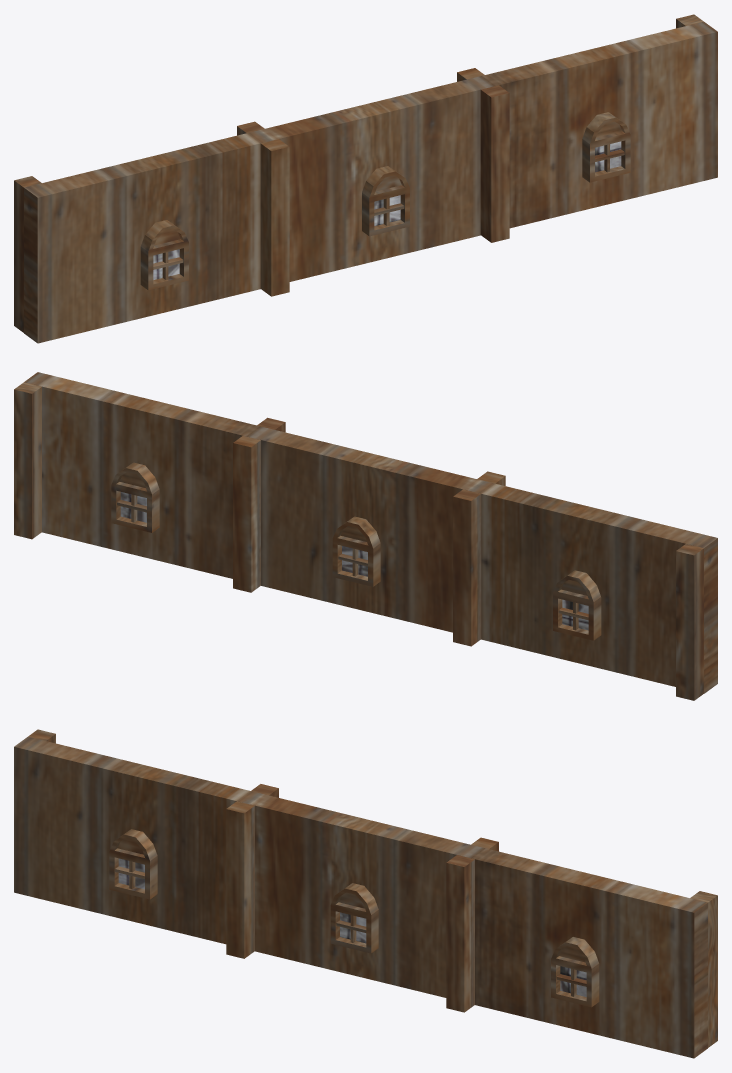
File: Blacksnmith_sidetwall.fbx
The picture shows the model from 3 angles, top to bottom: view 1: azimuth 30°, elevation 25°; view 2: azimuth 150°, elevation 25°; view 3: azimuth 330°, elevation 25°; orthographic projection.
Parts seen in each view (by area): view 1: Blacksmith_sidewall; view 2: Blacksmith_sidewall; view 3: Blacksmith_sidewall.
Part boxes in pixels (bbox=[...]): Blacksmith_sidewall: bbox=[14, 14, 717, 343]; Blacksmith_sidewall: bbox=[14, 372, 717, 700]; Blacksmith_sidewall: bbox=[14, 729, 717, 1058].
Bounding box in the file's own units: 108 × 22.06 × 9.45.
